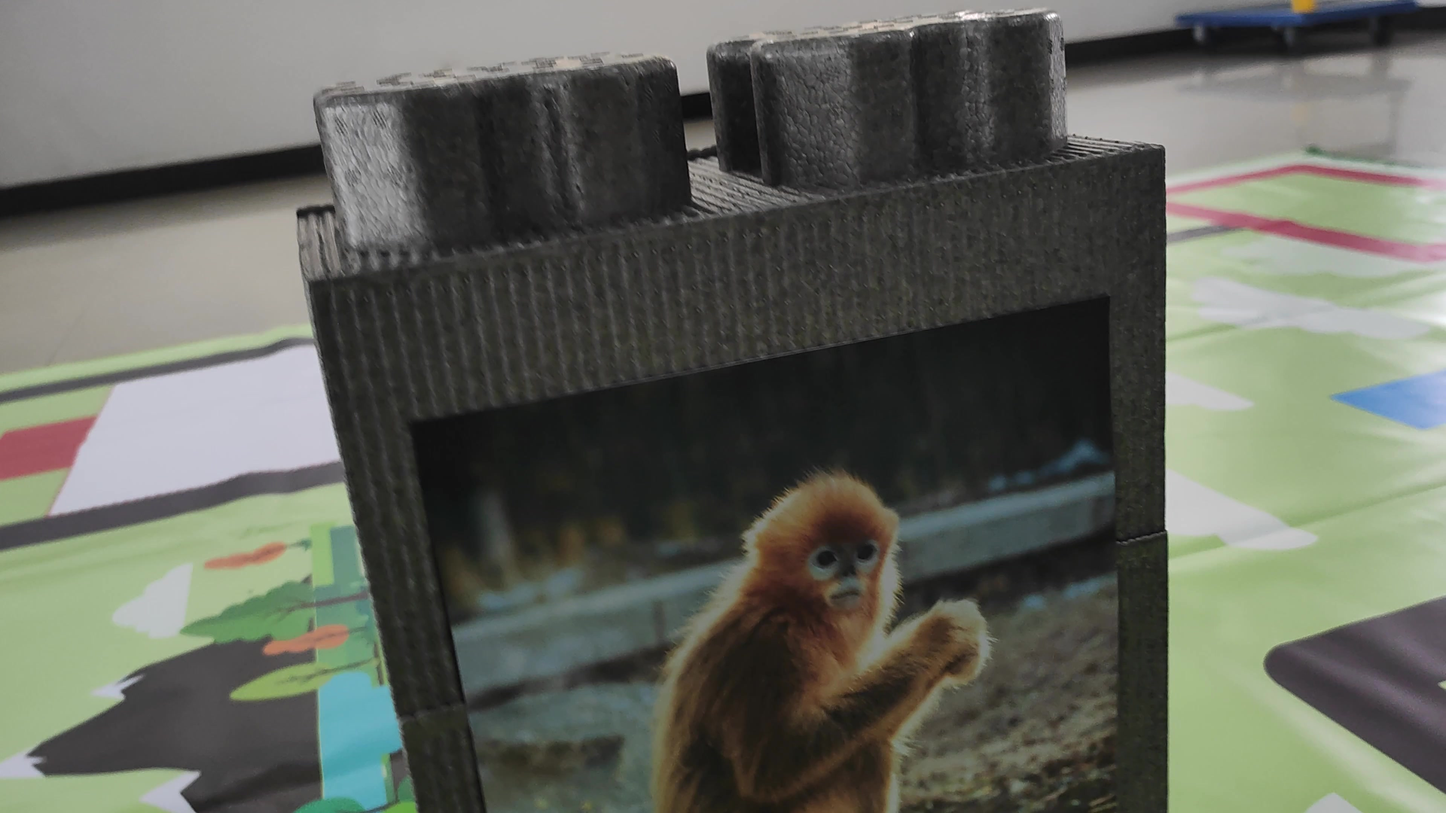monkey: (548, 422, 1030, 804)
